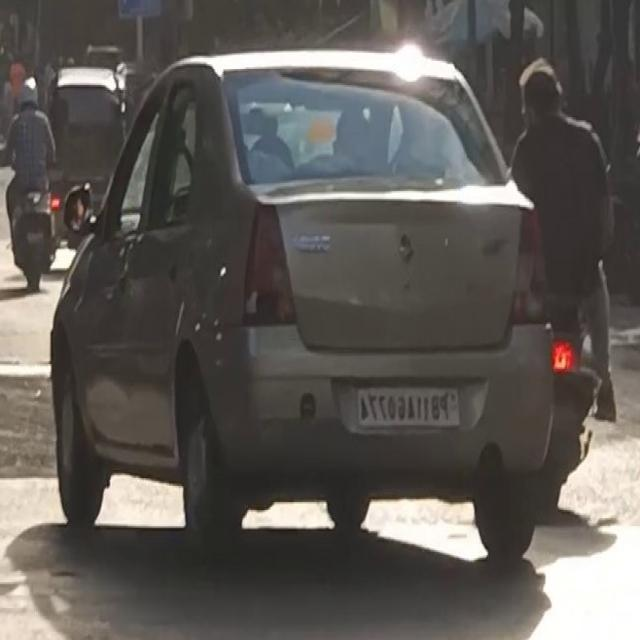license_plate: (352, 376, 464, 436)
